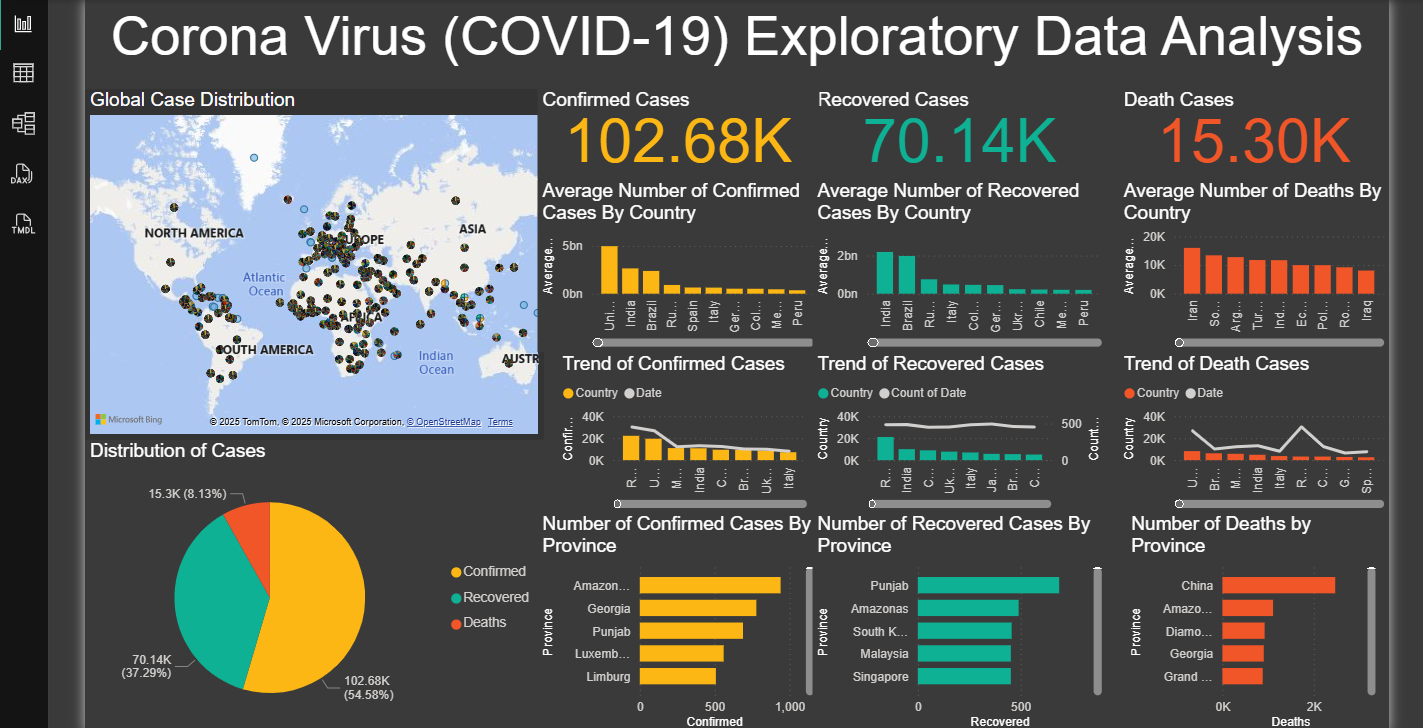

Layout of this report page (visuals, bound fields, positions):
{"tool":"powerbi","page":{"name":"Page 1","canvas":[1280,720],"ordinal":0},"visuals":[{"type":"map","title":"Global Case Distribution","fields":{"Category":["Cleaned_Dataset.Country"],"Series":["Cleaned_Dataset.Deaths"]},"box":[0,87.5,450.1,343.9],"z":0},{"type":"columnChart","title":"Average Number of Deaths By Country","fields":{"Category":["Cleaned_Dataset.Country"],"Y":["Avg(Cleaned_Dataset.Deaths)"]},"box":[1014.4,176.6,265.7,168.8],"z":1000},{"type":"card","title":"Recovered Cases","fields":{"Values":["Count(Cleaned_Dataset.Recovered)"]},"box":[714.3,87.5,289.2,89.1],"z":2000},{"type":"card","title":"Death Cases","fields":{"Values":["Count(Cleaned_Dataset.Deaths)"]},"box":[1014.4,87.5,265.7,89.1],"z":3000},{"type":"card","title":"Confirmed Cases","fields":{"Values":["Count(Cleaned_Dataset.Confirmed)"]},"box":[443.9,87.5,276.6,89.1],"z":4000},{"type":"pieChart","title":"Distribution of Cases","fields":{"Y":["Count(Cleaned_Dataset.Confirmed)","Count(Cleaned_Dataset.Recovered)","Count(Cleaned_Dataset.Deaths)"]},"box":[0,431.4,450.1,289.2],"z":5000},{"type":"columnChart","title":"Average Number of Confirmed Cases By Country","fields":{"Category":["Cleaned_Dataset.Country"],"Y":["Sum(Cleaned_Dataset.Confirmed)"]},"box":[443.9,176.6,276.6,168.8],"z":6000},{"type":"columnChart","title":"Average Number of Recovered Cases By Country","fields":{"Category":["Cleaned_Dataset.Country"],"Y":["Sum(Cleaned_Dataset.Recovered)"]},"box":[714.3,176.6,289.2,168.8],"z":7000},{"type":"barChart","title":"Number of Deaths by Province","fields":{"Category":["Cleaned_Dataset.Province"],"Y":["CountNonNull(Cleaned_Dataset.Deaths)"]},"box":[1022.2,503.3,250.1,217.3],"z":8000},{"type":"barChart","title":"Number of Confirmed Cases By Province","fields":{"Y":["Count(Cleaned_Dataset.Confirmed)"],"Category":["Cleaned_Dataset.Province"]},"box":[443.9,503.3,276.6,217.3],"z":9000},{"type":"barChart","title":"Number of Recovered Cases By Province","fields":{"Y":["Count(Cleaned_Dataset.Recovered)"],"Category":["Cleaned_Dataset.Province"]},"box":[714.3,503.3,289.2,217.3],"z":10000},{"type":"lineClusteredColumnComboChart","title":"Trend of Confirmed Cases","fields":{"Category":["Cleaned_Dataset.Country"],"Y":["Count(Cleaned_Dataset.Confirmed)"],"Y2":["CountNonNull(Cleaned_Dataset.Date)"]},"box":[464.2,345.4,250.1,157.9],"z":11000},{"type":"lineClusteredColumnComboChart","title":"Trend of Death Cases","fields":{"Y":["Count(Cleaned_Dataset.Deaths)"],"Category":["Cleaned_Dataset.Country"],"Y2":["CountNonNull(Cleaned_Dataset.Date)"]},"box":[1014.4,345.4,265.7,157.9],"z":12000},{"type":"lineClusteredColumnComboChart","title":"Trend of Recovered Cases","fields":{"Y":["Count(Cleaned_Dataset.Recovered)"],"Category":["Cleaned_Dataset.Country"],"Y2":["Count(Cleaned_Dataset.Date)"]},"box":[714.3,345.4,289.2,157.9],"z":13000},{"type":"textbox","box":[0,0,1280.1,87.5],"z":14000}]}

Visuals, with their boxes on the page's 1280x720 design canvas (x1, y1, x2, y2). These are canvas units, not pixel positions in the 1423x728 screenshot, which may show the page scaled, cropped or inside an application window:
"Global Case Distribution" map: bbox=(0, 88, 450, 431)
"Average Number of Deaths By Country" columnChart: bbox=(1014, 177, 1280, 345)
"Recovered Cases" card: bbox=(714, 88, 1004, 177)
"Death Cases" card: bbox=(1014, 88, 1280, 177)
"Confirmed Cases" card: bbox=(444, 88, 720, 177)
"Distribution of Cases" pieChart: bbox=(0, 431, 450, 721)
"Average Number of Confirmed Cases By Country" columnChart: bbox=(444, 177, 720, 345)
"Average Number of Recovered Cases By Country" columnChart: bbox=(714, 177, 1004, 345)
"Number of Deaths by Province" barChart: bbox=(1022, 503, 1272, 721)
"Number of Confirmed Cases By Province" barChart: bbox=(444, 503, 720, 721)
"Number of Recovered Cases By Province" barChart: bbox=(714, 503, 1004, 721)
"Trend of Confirmed Cases" lineClusteredColumnComboChart: bbox=(464, 345, 714, 503)
"Trend of Death Cases" lineClusteredColumnComboChart: bbox=(1014, 345, 1280, 503)
"Trend of Recovered Cases" lineClusteredColumnComboChart: bbox=(714, 345, 1004, 503)
textbox: bbox=(0, 0, 1280, 88)
